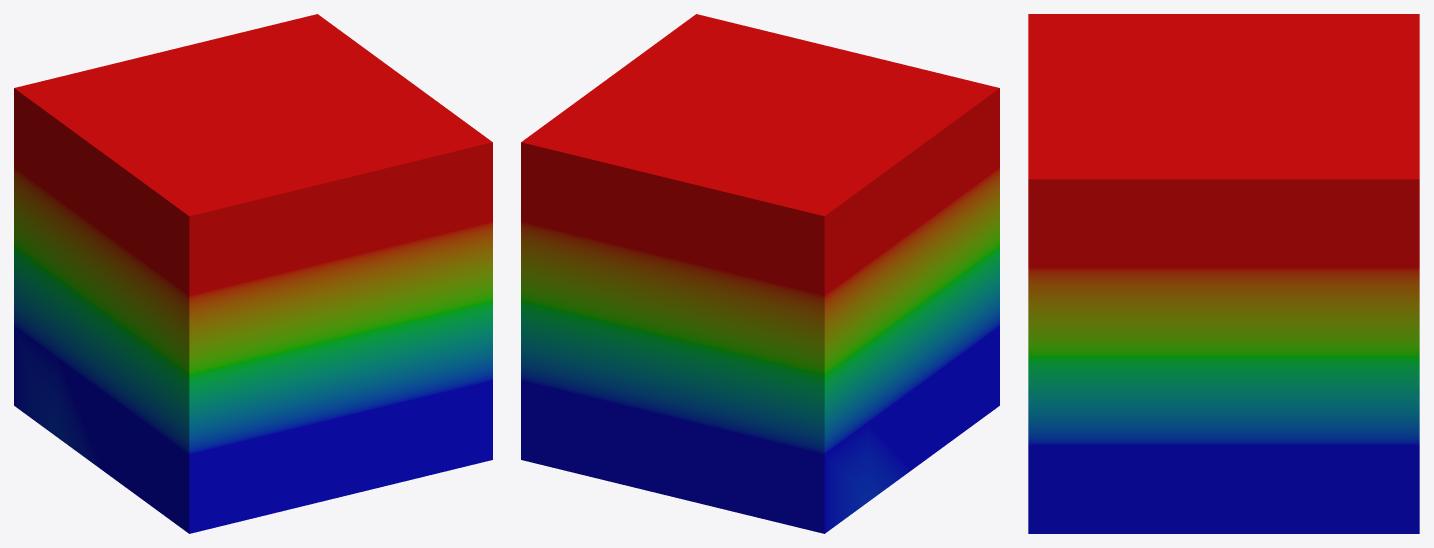
Rendered from testCube_DEG.glb.
The picture shows the model from 3 angles, left to right: view 1: azimuth 30°, elevation 25°; view 2: azimuth 150°, elevation 25°; view 3: azimuth 270°, elevation 25°; orthographic projection. The views are drawn at different scales.
Visible parts, largest first — view 1: CubeDEG; view 2: CubeDEG; view 3: CubeDEG.
Part boxes in pixels (bbox=[...]): CubeDEG: bbox=[14, 14, 492, 533]; CubeDEG: bbox=[521, 14, 999, 533]; CubeDEG: bbox=[1028, 14, 1419, 533].
Size of the model in its own units: 2 by 2 by 2.
